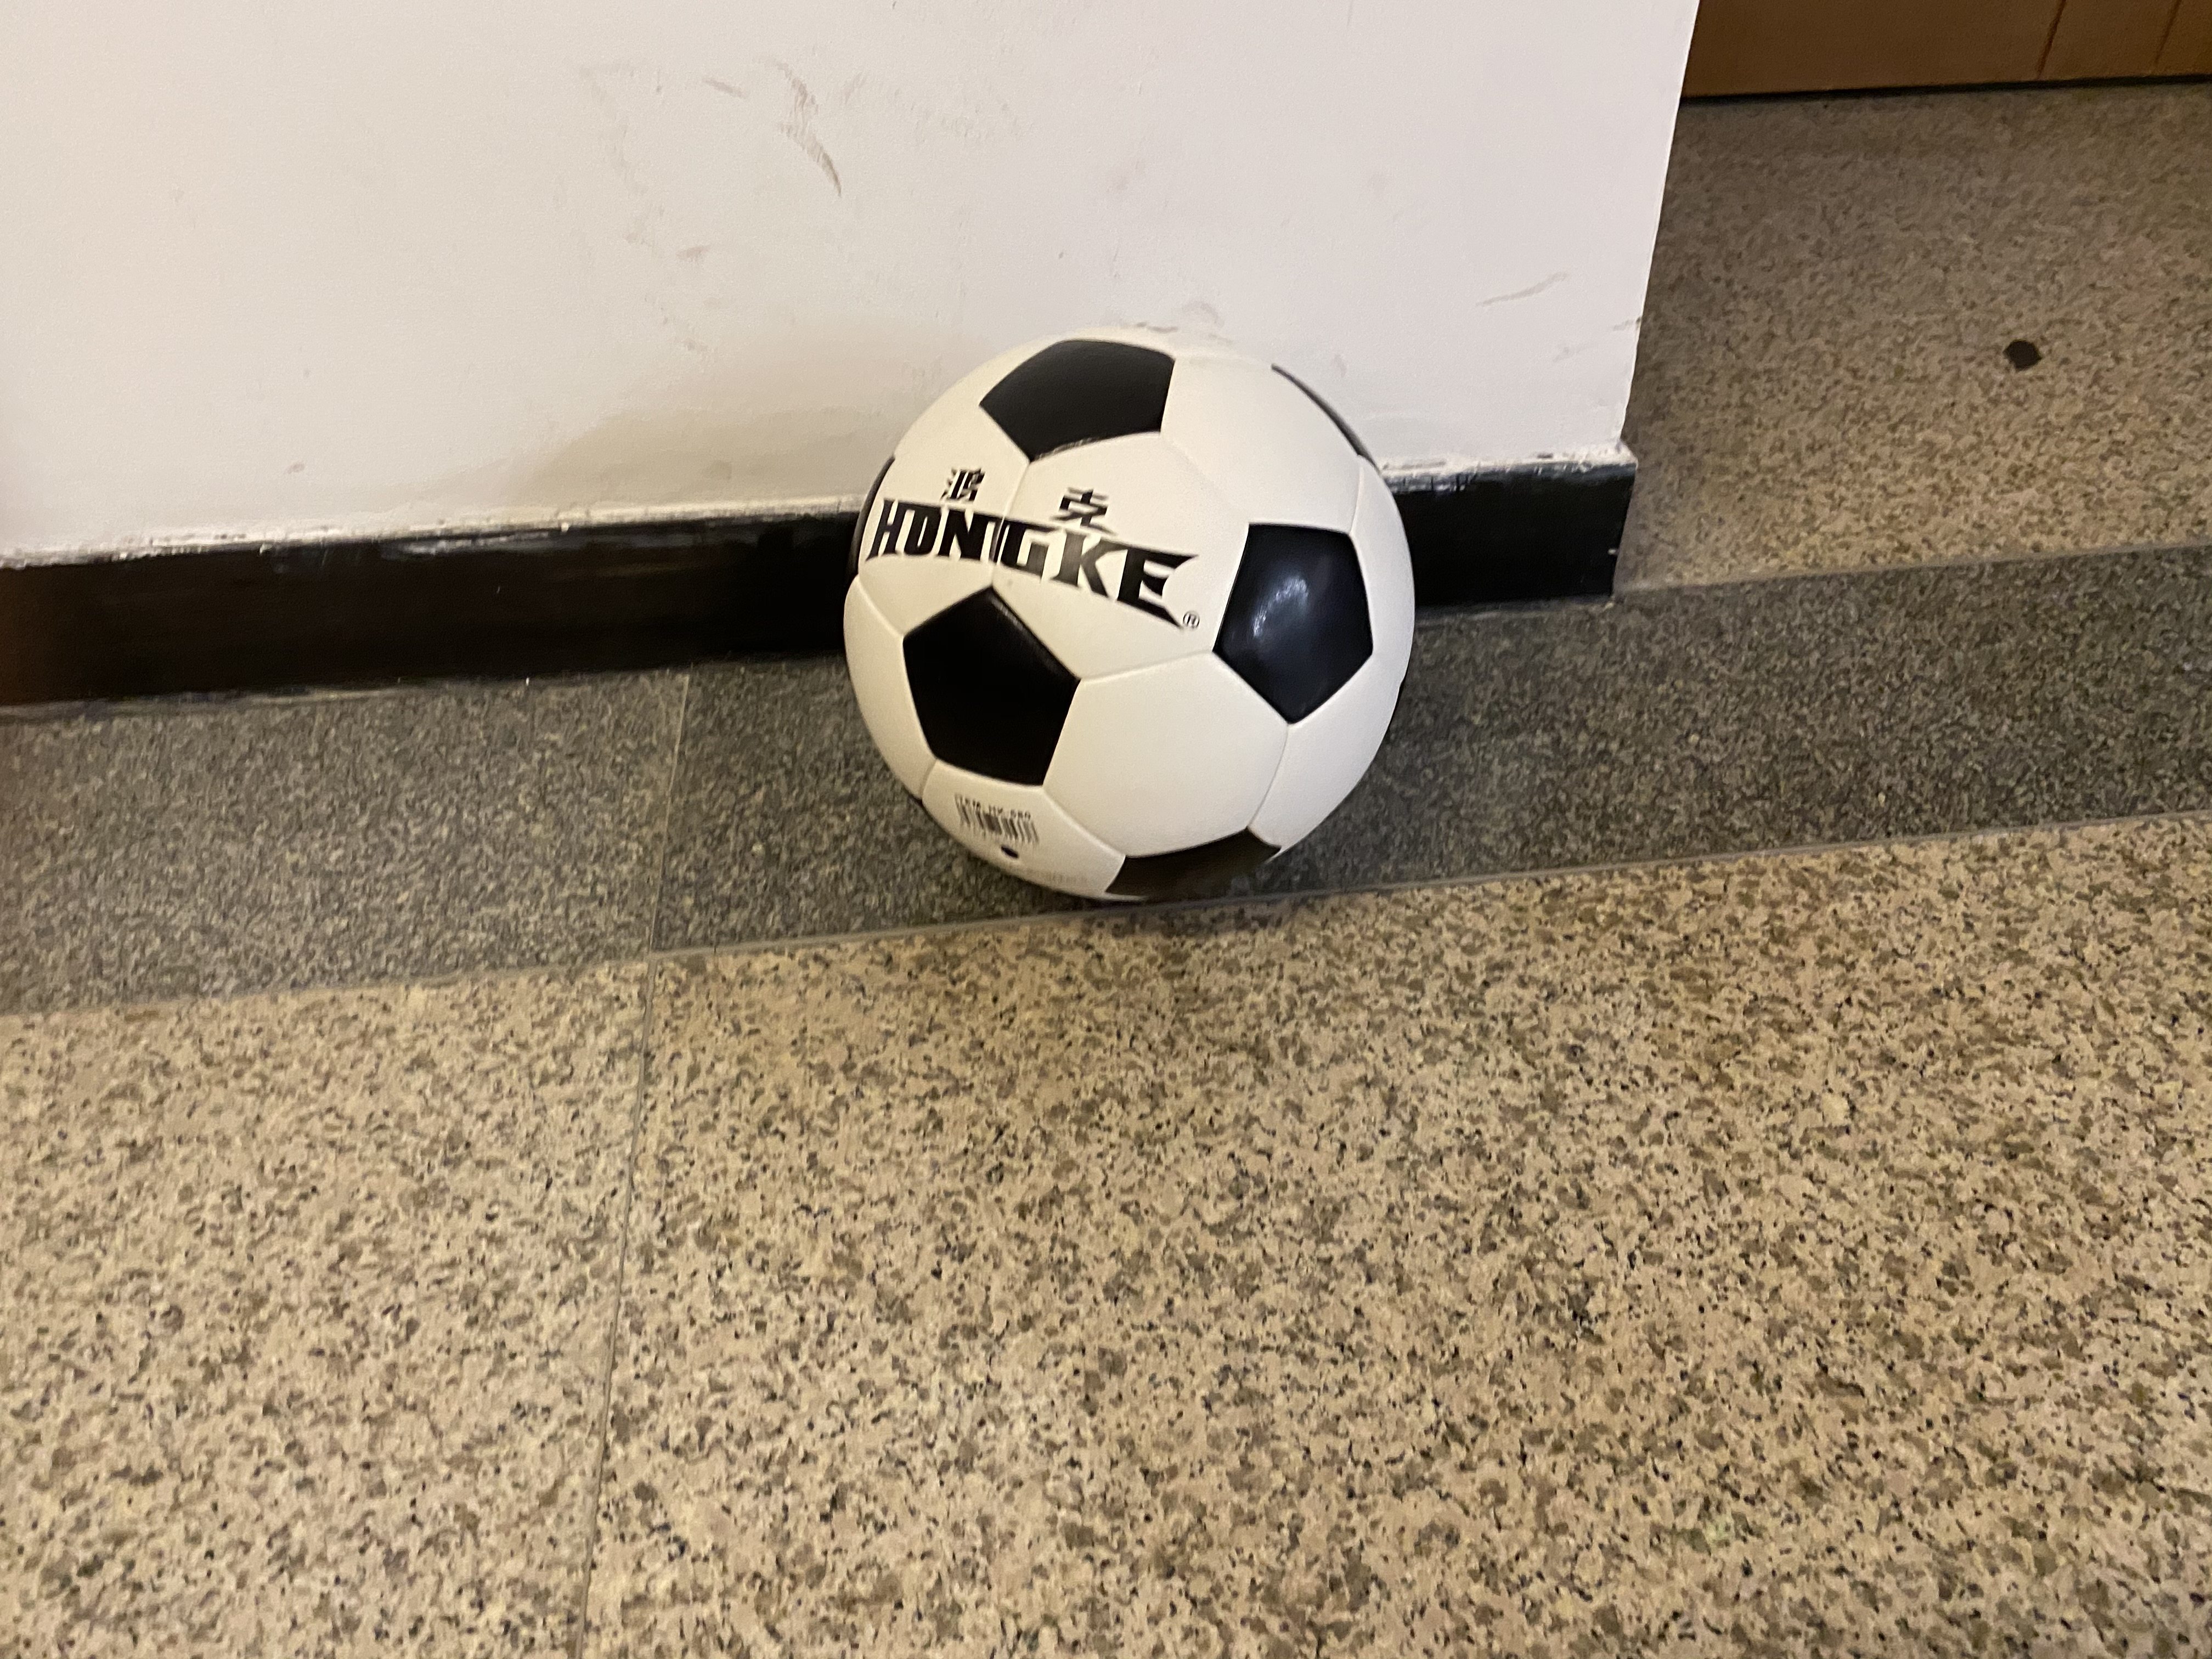football: (845, 336, 1423, 901)
